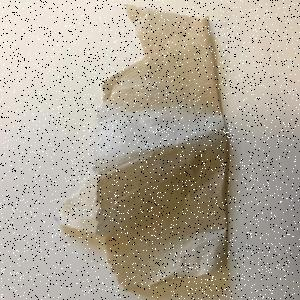Trash: (54, 3, 229, 293)
